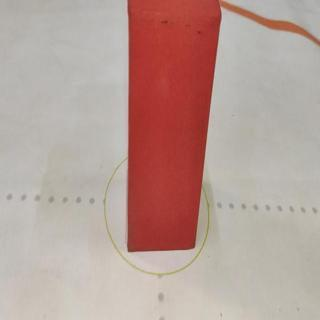redbox: (125, 0, 223, 248)
